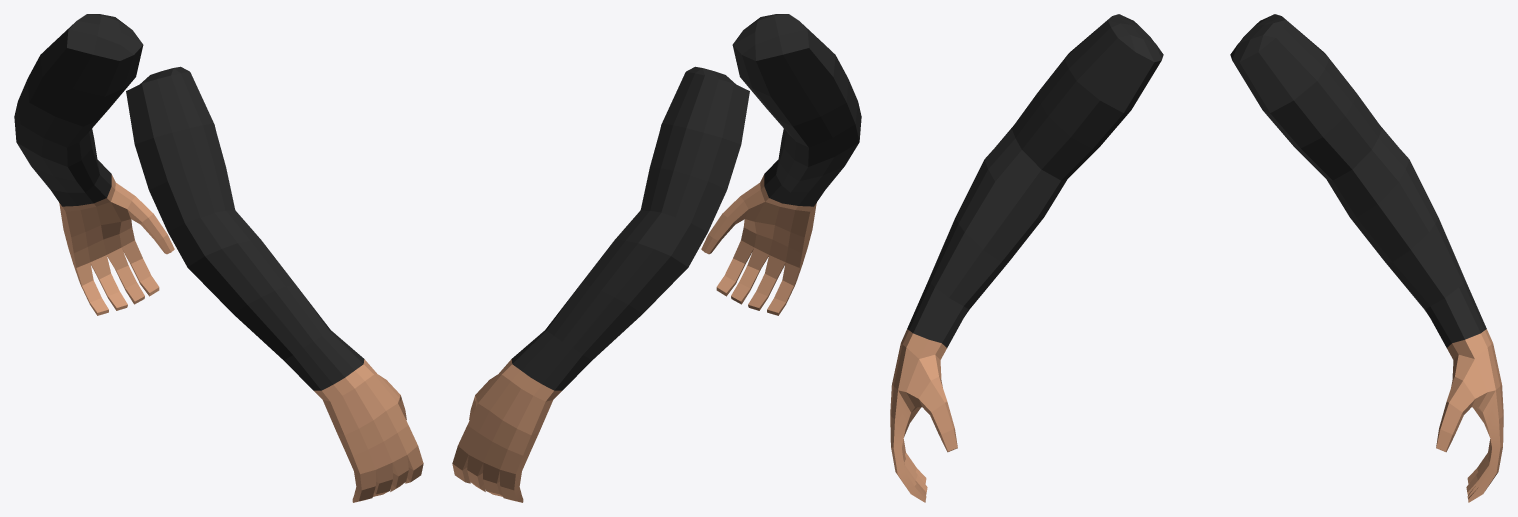
Rendered from Arms.fbx.
3 renders of one model, left to right at view 1: azimuth 30°, elevation 25°; view 2: azimuth 150°, elevation 25°; view 3: azimuth 270°, elevation 25°, orthographic. The views are drawn at different scales.
Parts seen in each view (by area): view 1: Arm1; view 2: Arm1; view 3: Arm1.
Part boxes in pixels (bbox=[...]): Arm1: bbox=[14, 14, 423, 502]; Arm1: bbox=[452, 14, 861, 502]; Arm1: bbox=[890, 14, 1503, 502].
Bounding box in the file's own units: 22.71 × 42.03 × 56.61.
